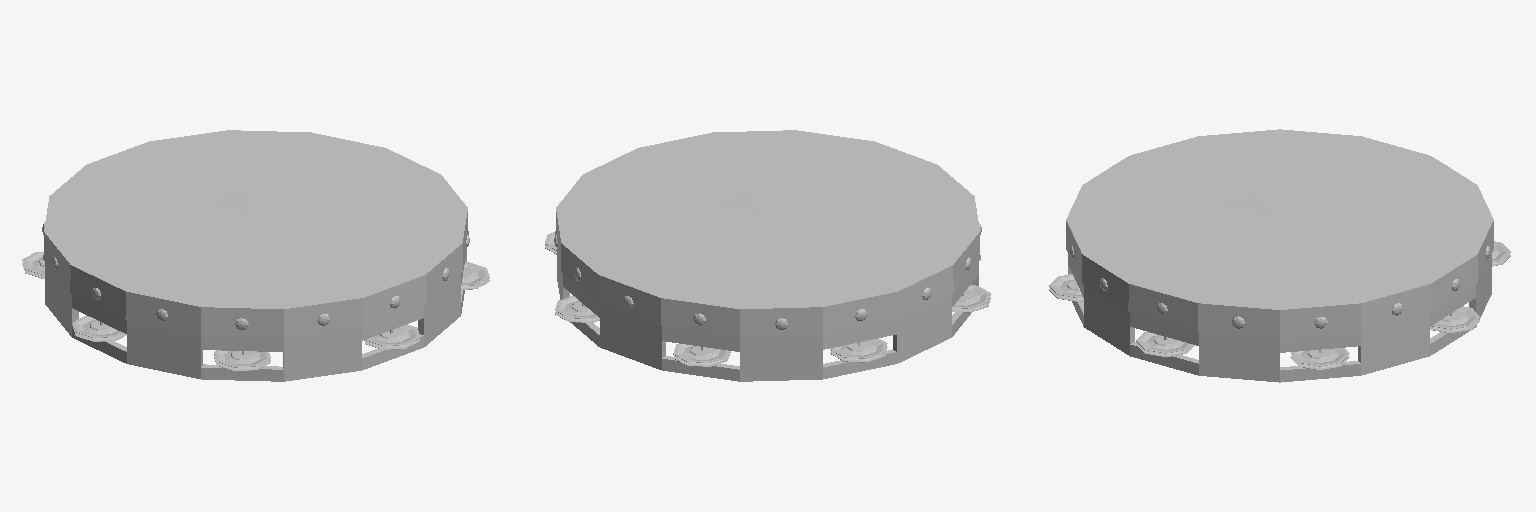
File: tambourine2.obj
3 renders of one model, left to right at view 1: azimuth 30°, elevation 25°; view 2: azimuth 150°, elevation 25°; view 3: azimuth 270°, elevation 25°, orthographic.
Bounding box in the file's own units: 2.18 × 0.383 × 2.18.